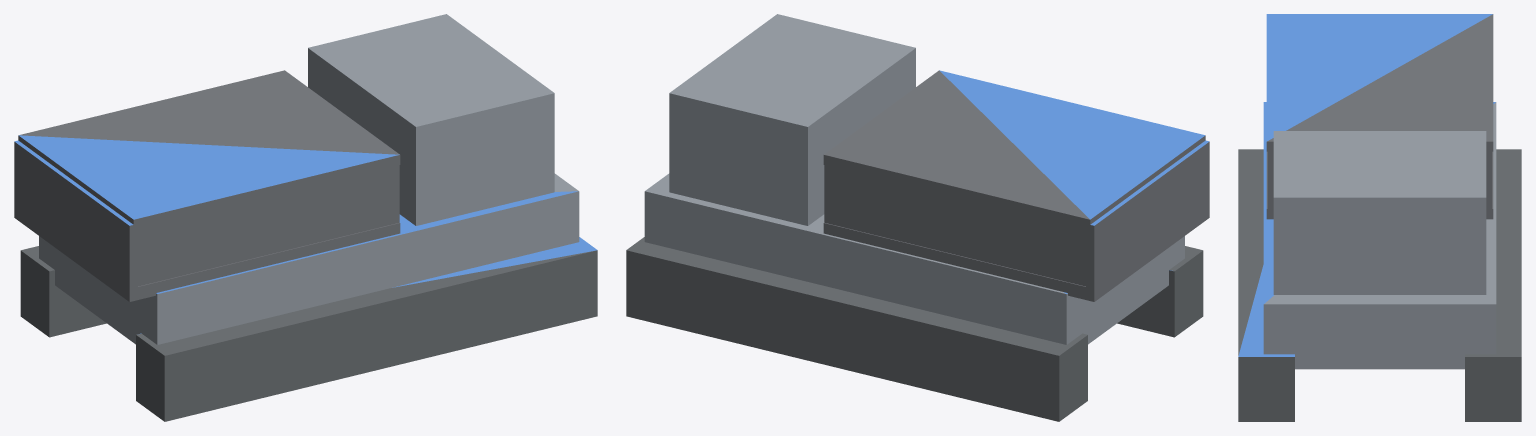
File: veyran_harvester.glb
3 views of the same model, side by side, from view 1: azimuth 30°, elevation 25°; view 2: azimuth 150°, elevation 25°; view 3: azimuth 270°, elevation 25° (orthographic).
Visible parts, largest first — view 1: hull, bucket; view 2: hull, bucket; view 3: hull, bucket.
Part boxes in pixels (<box>): hull: <box>20,14,597,421</box>; bucket: <box>14,70,400,301</box>; hull: <box>626,14,1203,421</box>; bucket: <box>823,70,1209,301</box>; hull: <box>1238,102,1521,421</box>; bucket: <box>1266,14,1493,219</box>.
Size of the model in its own units: 6.54 by 2.97 by 3.6.
